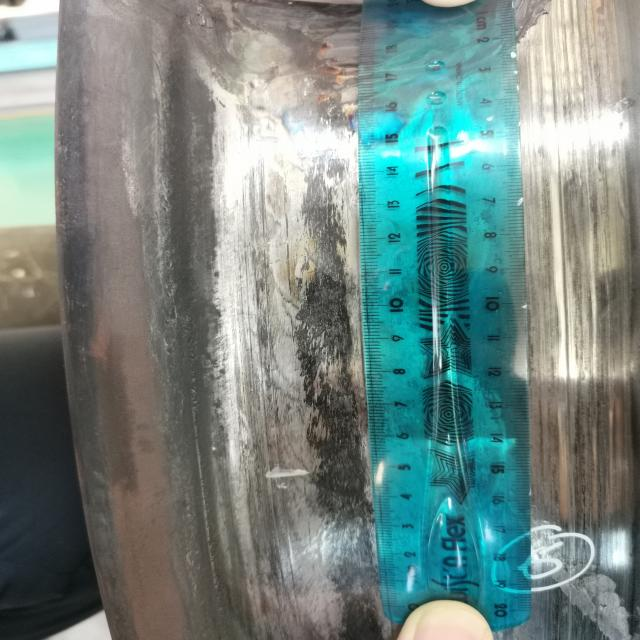Brake_Thermal_Cracks: (270, 340, 358, 356), (238, 305, 361, 314), (288, 411, 363, 425), (293, 151, 357, 164), (286, 233, 353, 245), (303, 446, 361, 459), (293, 269, 359, 280), (289, 252, 355, 263), (288, 358, 358, 367), (289, 318, 356, 327), (325, 516, 375, 527), (320, 500, 371, 510), (306, 370, 361, 379)
